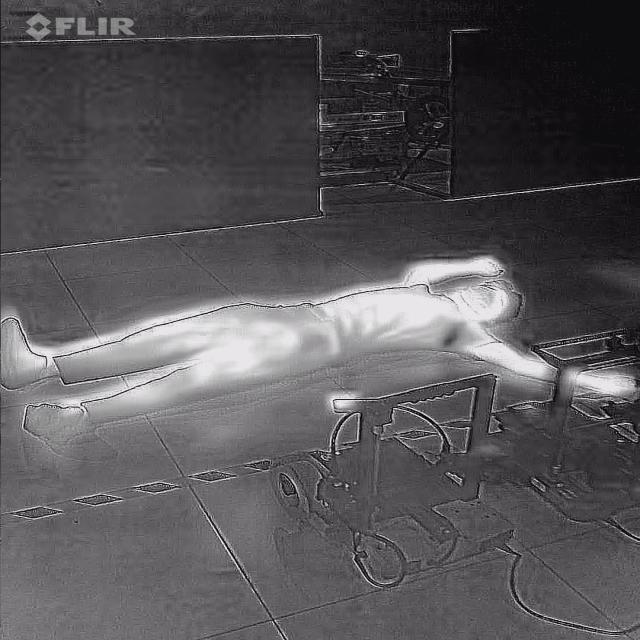Victim: (2, 251, 639, 443)
